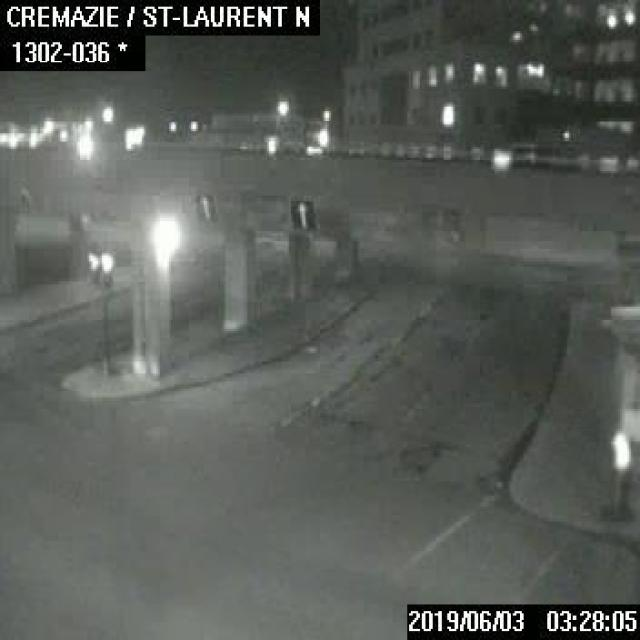vehicle: (206, 105, 329, 146)
